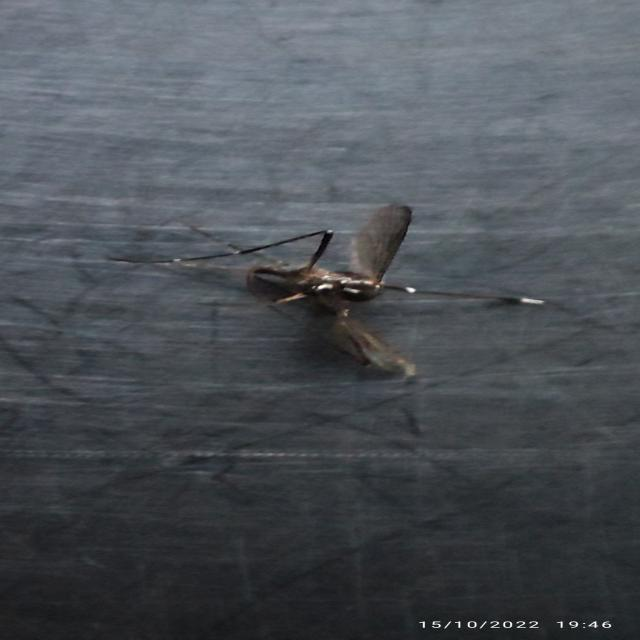albopictus: (110, 200, 530, 338)
